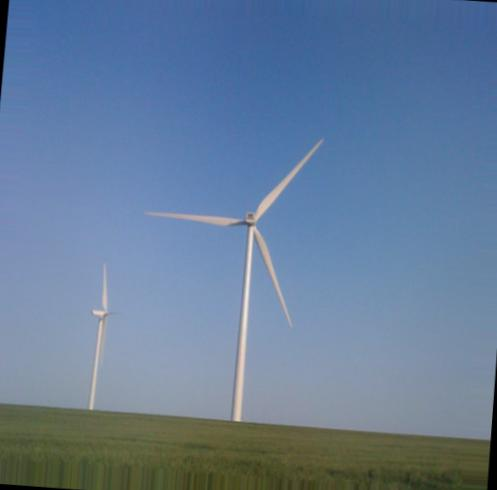wind turbine: (144, 137, 325, 422), (84, 261, 118, 411)
